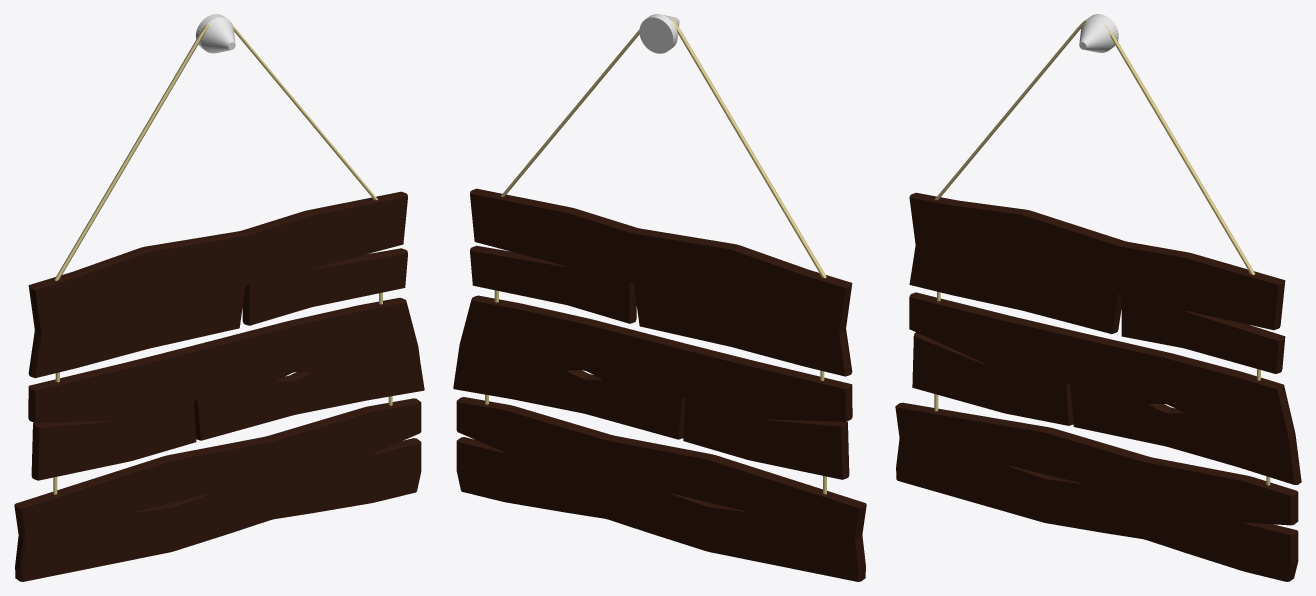
File: Hanging-Sign.glb
3 renders of one model, left to right at view 1: azimuth 30°, elevation 25°; view 2: azimuth 150°, elevation 25°; view 3: azimuth 330°, elevation 25°, orthographic.
Visible parts, largest first — view 1: Wood Sign.001, Wood Sign, Wood Sign.002, Main Ropes, Main Nail; view 2: Wood Sign.001, Wood Sign, Wood Sign.002, Main Ropes, Main Nail; view 3: Wood Sign.001, Wood Sign, Wood Sign.002, Main Ropes, Main Nail.
Boxes of the visible parts, x1,y1,x2,y2 form: Wood Sign.001: (28,297,424,480); Wood Sign: (28,191,407,378); Wood Sign.002: (14,398,421,581); Main Ropes: (54,20,377,280); Main Nail: (195,14,235,53); Wood Sign.001: (453,295,852,479); Wood Sign: (470,188,852,376); Wood Sign.002: (456,397,866,581); Main Ropes: (500,18,826,278); Main Nail: (639,14,679,53); Wood Sign.001: (909,292,1301,484); Wood Sign: (909,192,1285,373); Wood Sign.002: (895,402,1298,581); Main Ropes: (935,19,1255,274); Main Nail: (1079,14,1118,52).
Size of the model in its own units: 0.8725 by 1.07 by 0.0722.
